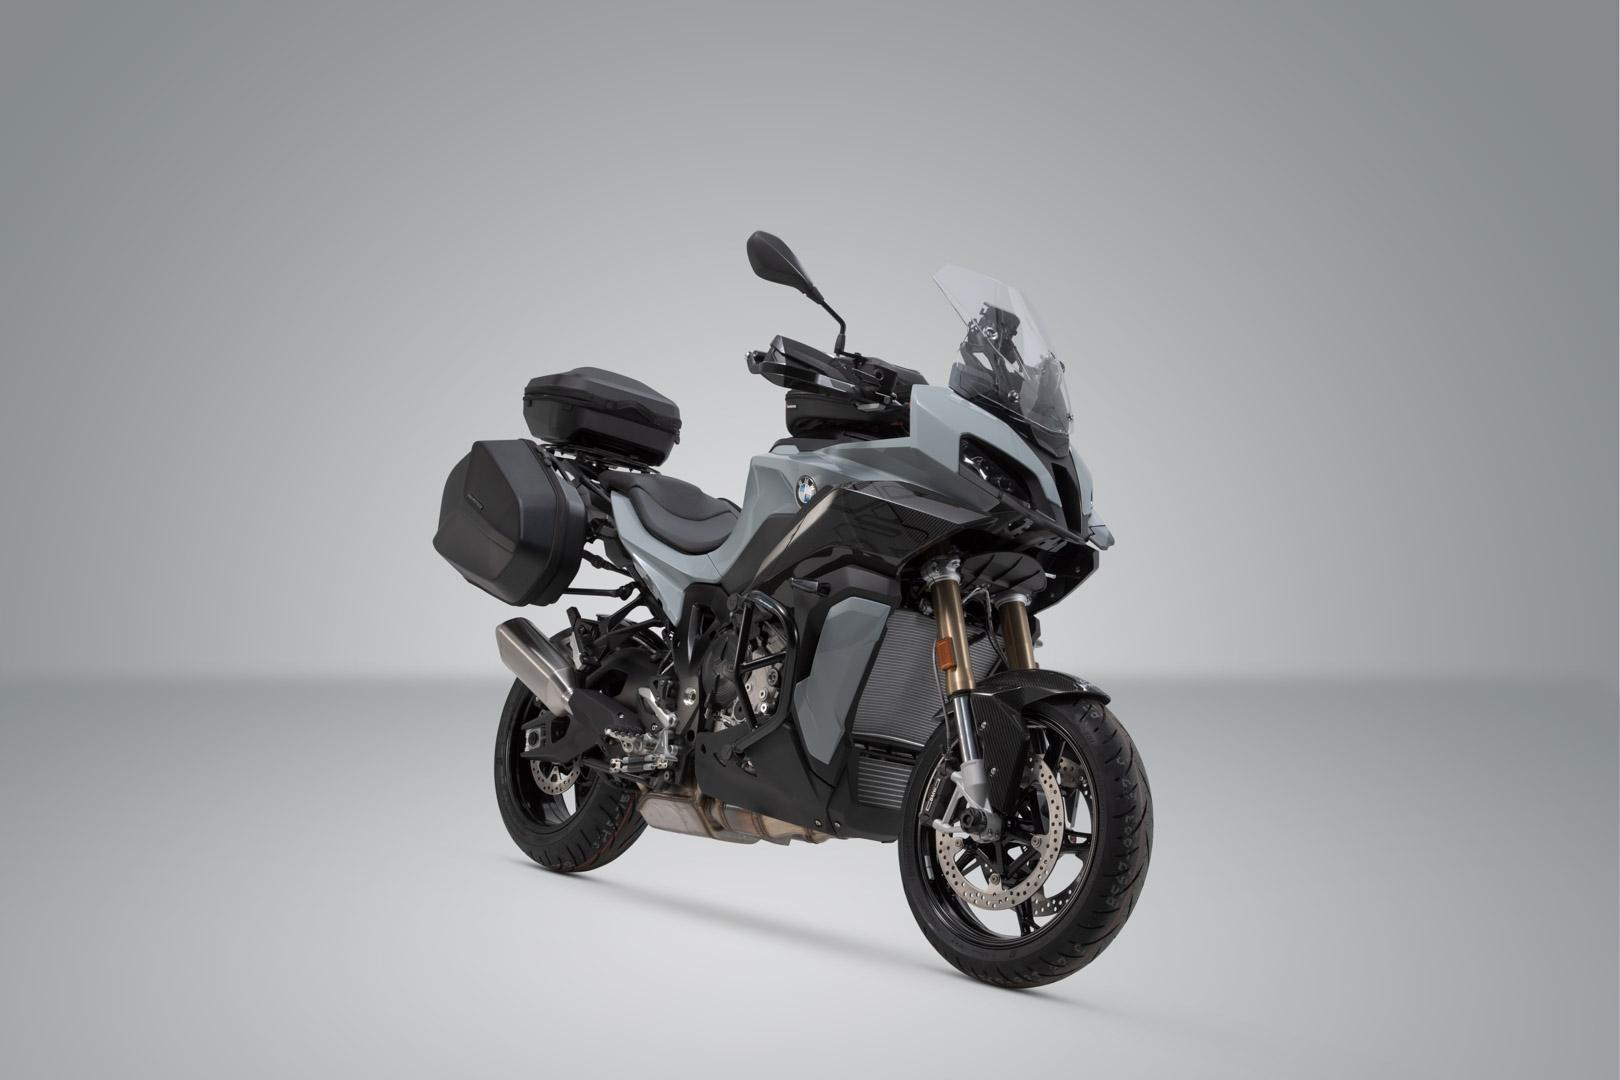engine-chasis: (604, 583, 838, 835), (827, 735, 925, 844)
exhaust: (495, 617, 647, 764), (635, 779, 867, 846)
frontside: (708, 264, 1115, 845)
handlebar: (745, 230, 910, 424)
motorbike: (433, 266, 1151, 986)
rearside: (432, 366, 723, 714), (520, 712, 597, 763)
seat: (598, 470, 742, 554)
tank: (769, 389, 909, 451), (865, 357, 929, 404)
wheel: (898, 693, 1151, 986), (493, 677, 653, 871), (962, 583, 1009, 670), (933, 630, 956, 762)
